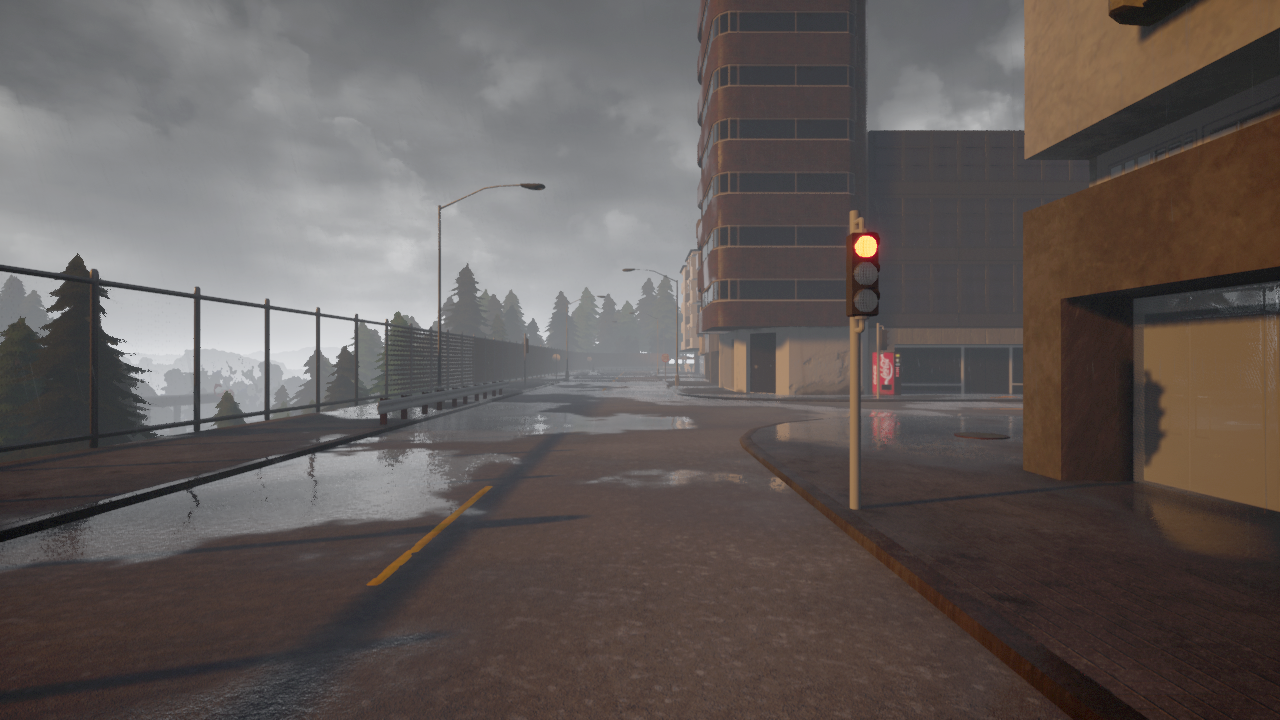red: (844, 230, 881, 314)
